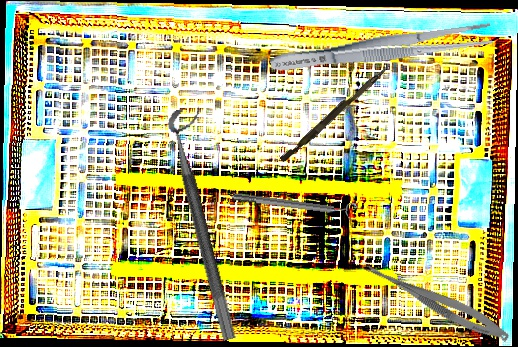Dressing Forceps: (268, 18, 494, 79)
Fixation Ring: (164, 104, 257, 342), (231, 185, 359, 223)
Micro Scissor: (353, 256, 515, 347)
Pusher: (279, 60, 391, 166)
